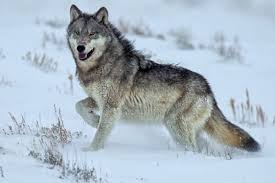Lobo: (62, 3, 263, 160)
